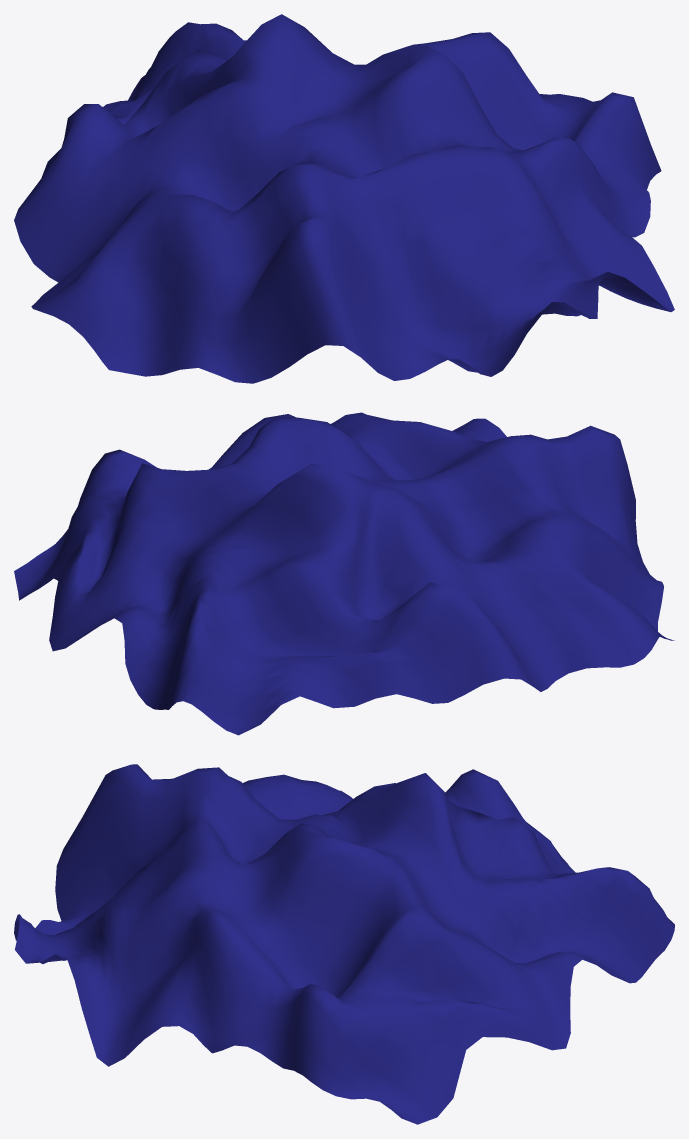
Rendered from pike_8_v1.FBX.
3 renders of one model, top to bottom at view 1: azimuth 30°, elevation 25°; view 2: azimuth 150°, elevation 25°; view 3: azimuth 270°, elevation 25°, orthographic. The views are drawn at different scales.
Visible parts, largest first — view 1: pile_006; view 2: pile_006; view 3: pile_006.
Boxes of the visible parts, <box> form: pile_006: <box>14,14,674,383</box>; pile_006: <box>14,412,674,735</box>; pile_006: <box>14,764,674,1124</box>.
Size of the model in its own units: 311 by 104 by 309.
